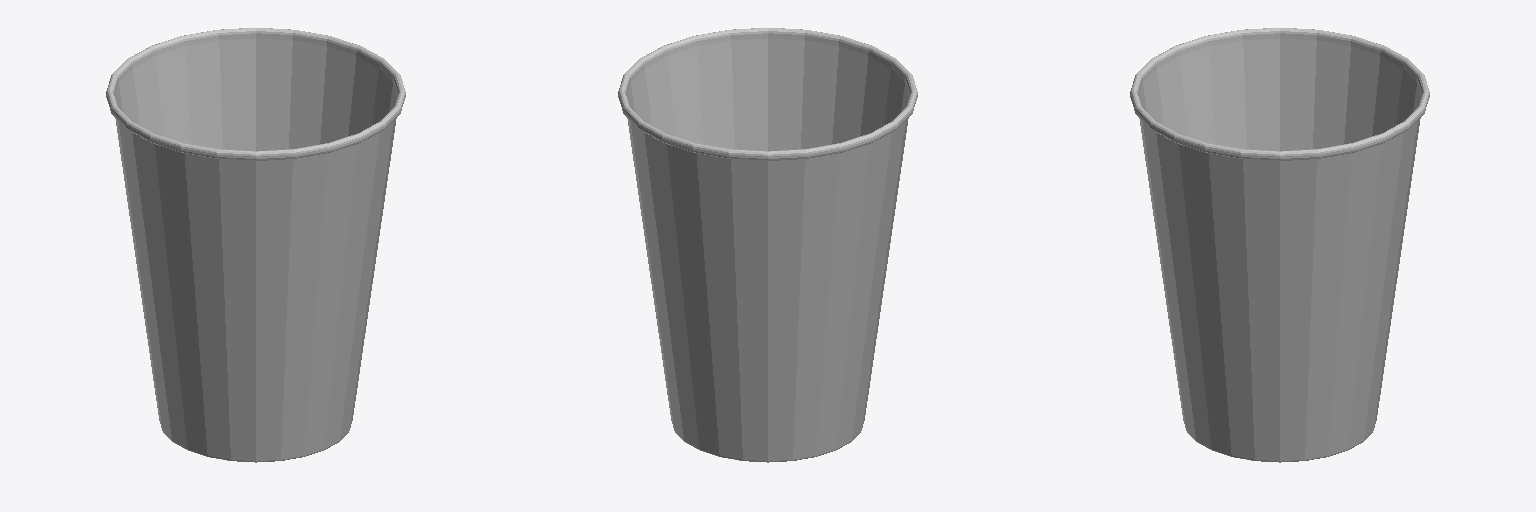
Rendered from cup-006.obj.
The picture shows the model from 3 angles: view 1: azimuth 30°, elevation 25°; view 2: azimuth 150°, elevation 25°; view 3: azimuth 270°, elevation 25°; orthographic projection.
Parts seen in each view (by area): view 1: cup-006; view 2: cup-006; view 3: cup-006.
Part boxes in pixels (x1,y1,x2,y2): cup-006: (106,28,405,462); cup-006: (618,28,917,462); cup-006: (1130,28,1429,462).
Size of the model in its own units: 0.09 by 0.11 by 0.09.